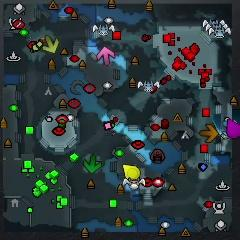p3: (227, 118, 240, 138)
p4: (123, 164, 141, 180)
x1: (97, 46, 114, 66)
x2: (43, 35, 59, 53)
x3: (223, 119, 238, 137)
x4: (84, 155, 101, 172)
x5: (199, 123, 218, 143)
